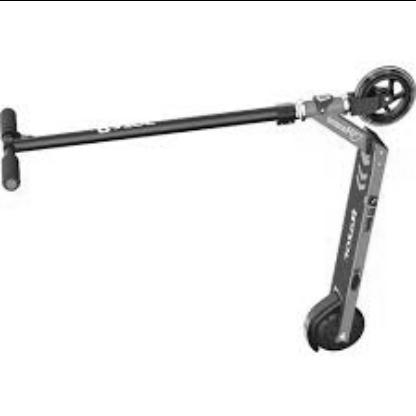bike: (3, 64, 416, 354)
